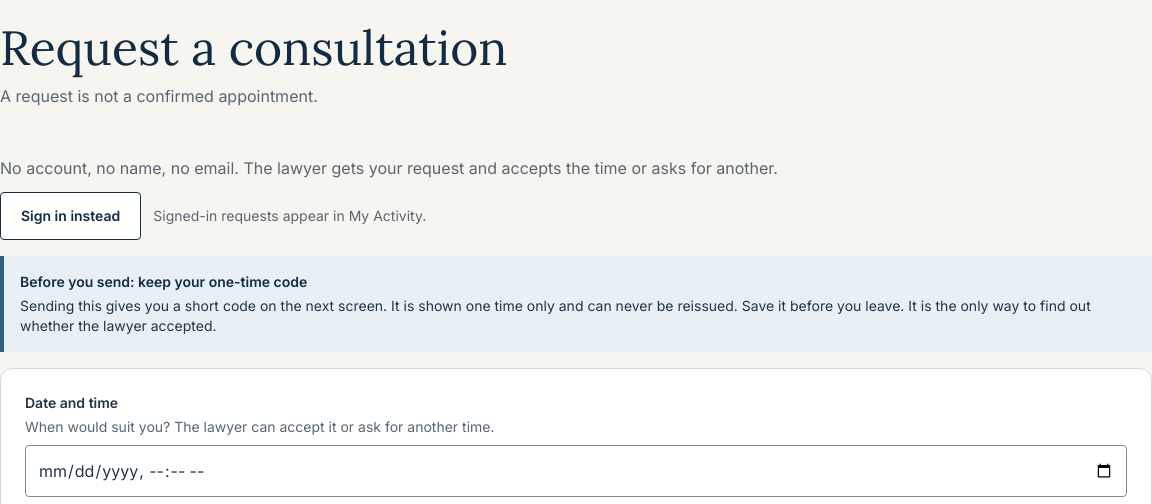
Booking a lawyer as a visitor › refuses a time in the past without sending anything
Type "2001-01-01T10:00" into the field labelled "Date and time" at (576, 471), box [25, 445, 1127, 497]
(page scrolled)
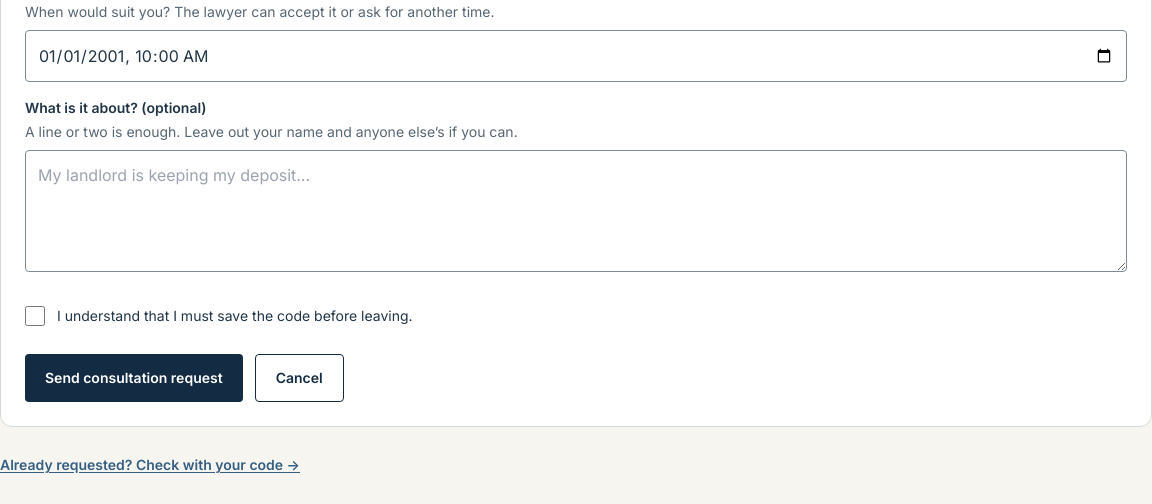
Click the checkbox labelled "I understand that I must save the code before leaving." at (35, 316), box [25, 306, 45, 326]
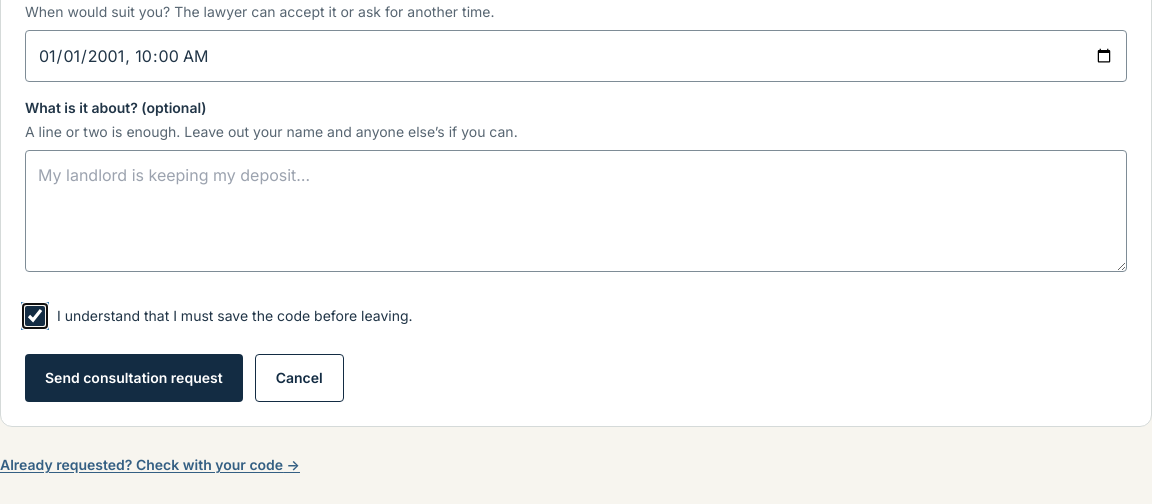
Click the button "Send consultation request" at (134, 378), box [25, 354, 243, 402]
(page scrolled)
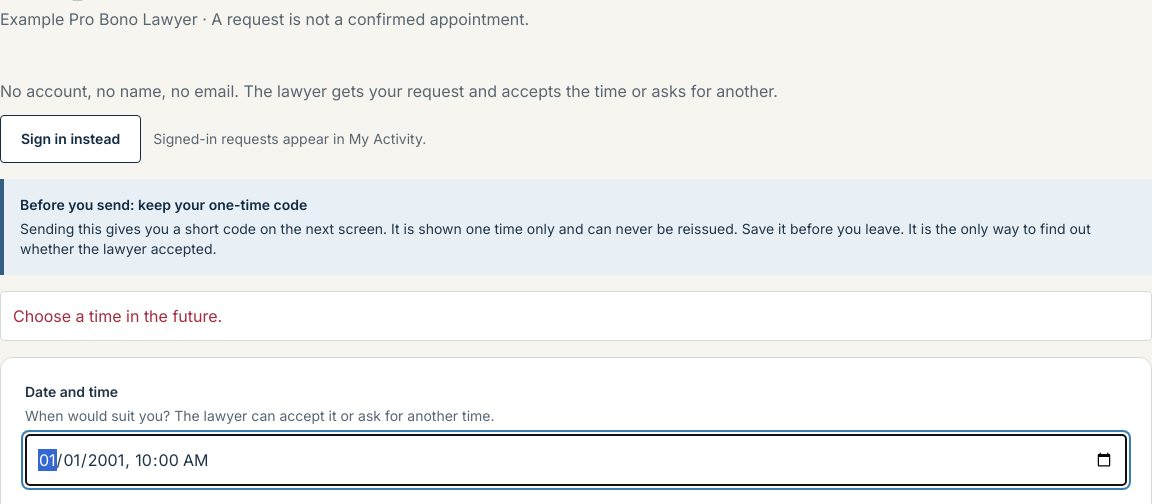
Now the text "Choose a time in the future." is shown, box [0, 291, 1151, 341]
